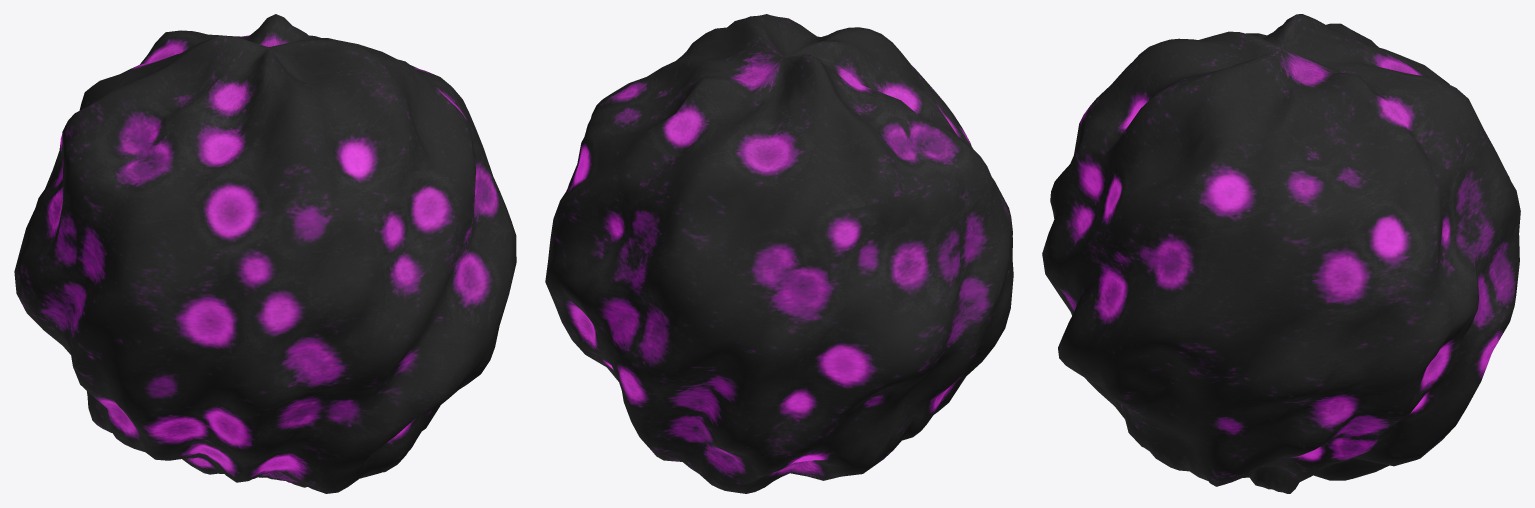
The model's file is asteroide2.glb.
The picture shows the model from 3 angles, left to right: view 1: azimuth 30°, elevation 25°; view 2: azimuth 150°, elevation 25°; view 3: azimuth 270°, elevation 25°; orthographic projection. The views are drawn at different scales.
Visible parts, largest first — view 1: Asteroid_2; view 2: Asteroid_2; view 3: Asteroid_2.
Boxes of the visible parts, x1,y1,x2,y2 form: Asteroid_2: [14, 14, 516, 493]; Asteroid_2: [545, 14, 1013, 493]; Asteroid_2: [1042, 14, 1520, 493].
Bounding box in the file's own units: 9.99 × 10.42 × 10.24.
1 material, 1 textured.
